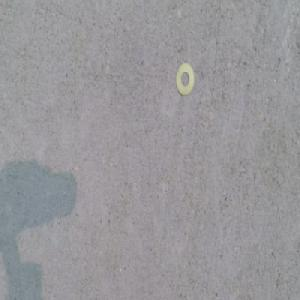Washer: (174, 65, 193, 96)
